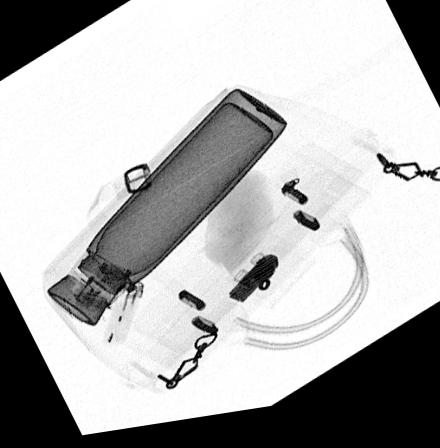Lighter: (100, 283, 143, 350)
